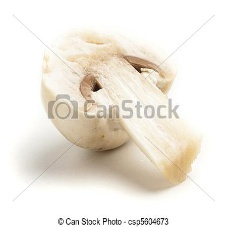mushroom: (39, 27, 204, 193)
